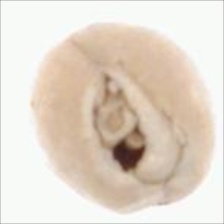L3: (84, 70, 156, 180)
L4: (31, 21, 216, 213)
